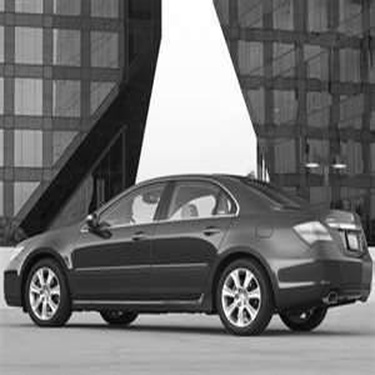car: (1, 165, 373, 346)
